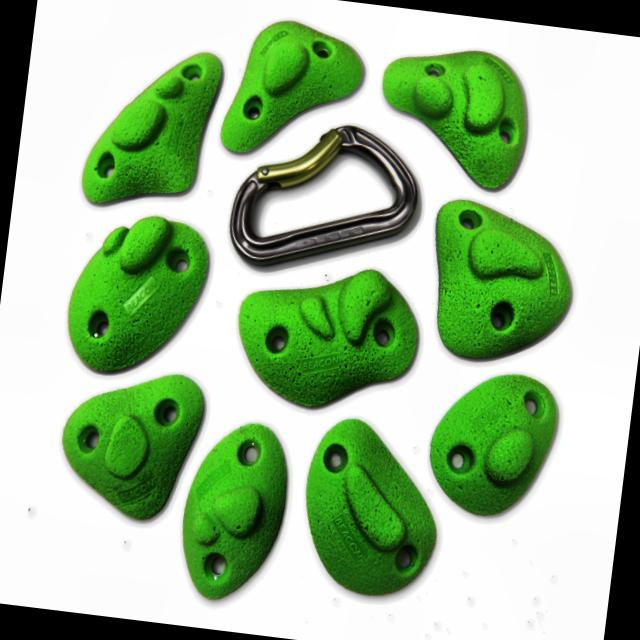Hold: (218, 247, 426, 415), (289, 414, 451, 599), (54, 202, 218, 384), (428, 193, 593, 364), (80, 40, 228, 222), (55, 362, 212, 528), (176, 414, 298, 614), (370, 46, 546, 184), (221, 10, 367, 158), (430, 365, 568, 517)
